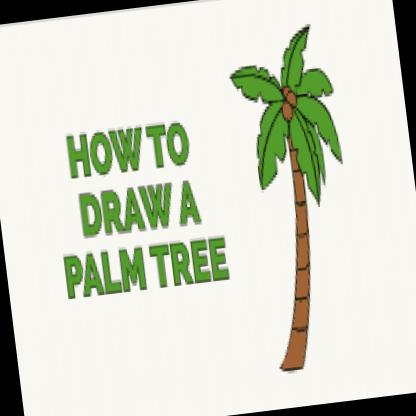crown_dizzy: (221, 6, 350, 210)
trunk_bark: (274, 236, 324, 341)
